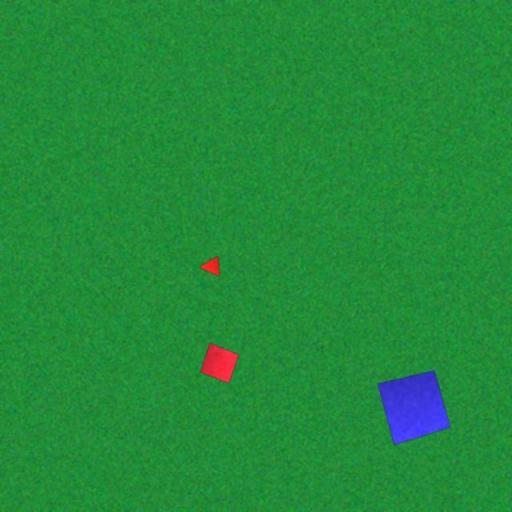BLUE_SQUARE: (377, 370, 450, 446)
RED_SQUARE: (200, 342, 240, 384)
